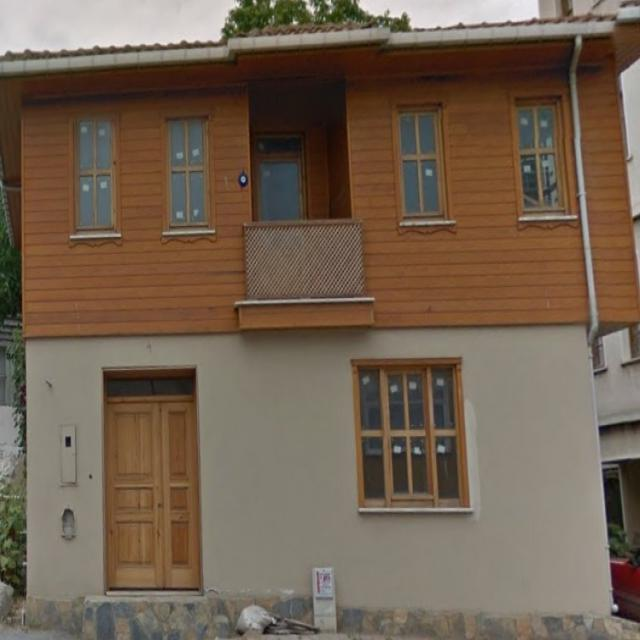Building: (3, 16, 639, 639)
